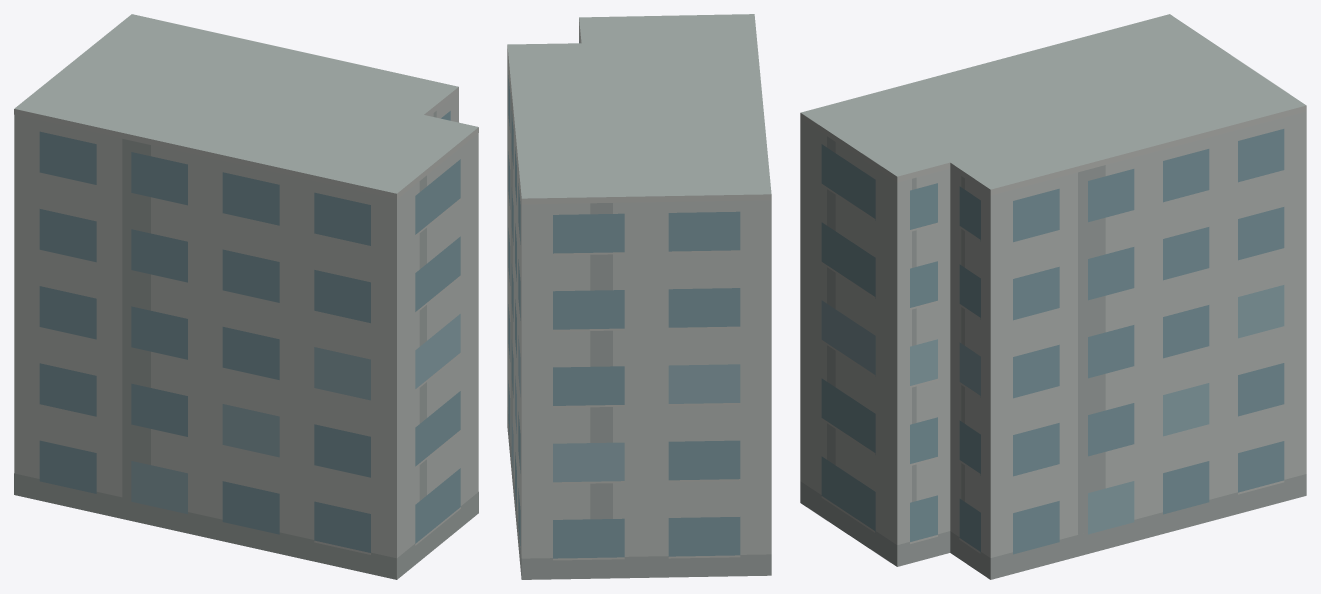
File: survey-upis-32869015.glb
3 renders of one model, left to right at view 1: azimuth 30°, elevation 25°; view 2: azimuth 150°, elevation 25°; view 3: azimuth 270°, elevation 25°, orthographic. The views are drawn at different scales.
Parts seen in each view (by area): view 1: survey-upis-32869015.tmp; view 2: survey-upis-32869015.tmp; view 3: survey-upis-32869015.tmp.
Boxes of the visible parts, bbox=[...] form: survey-upis-32869015.tmp: bbox=[14, 14, 478, 579]; survey-upis-32869015.tmp: bbox=[507, 14, 771, 579]; survey-upis-32869015.tmp: bbox=[800, 14, 1306, 579].
Bounding box in the file's own units: 15.31 × 15.85 × 18.64.
